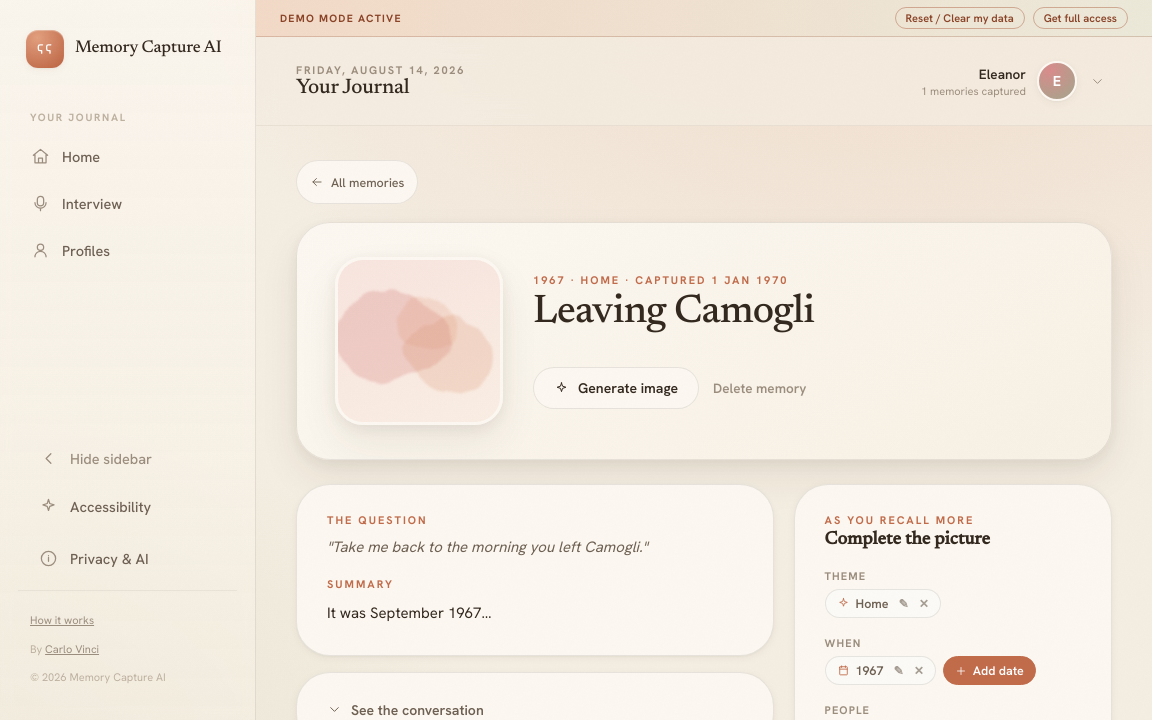
Scenario: memory detail view (#5) › shows the question, the verbatim answer, and noticed entities
This screenshot has width=1152, height=720.
Expected: the heading "Leaving Camogli" is shown, [533, 293, 814, 333]
Expected: the text "\"Take me back to the morning you left Camogli.\"" is shown, [327, 537, 648, 557]
# Full answer is in the collapsible conversation section — expand it first
Click the button "See the conversation".
click(417, 710)  # box [327, 700, 743, 718]
(page scrolled)
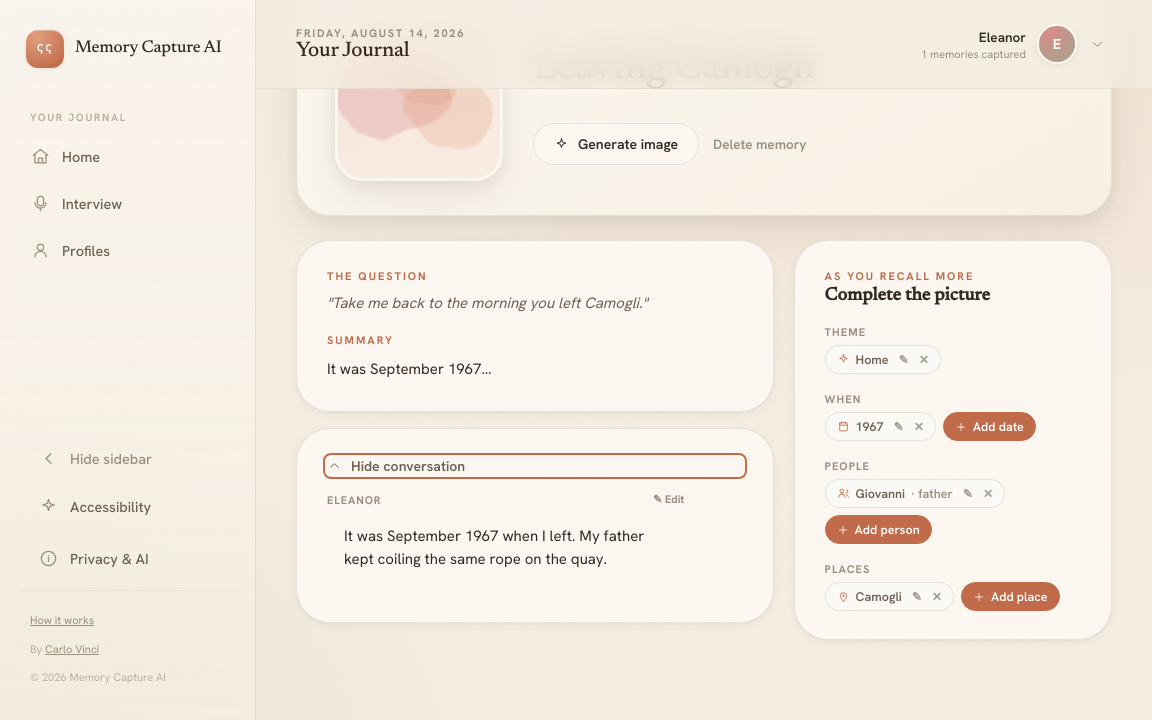
Expected: the text "coiling the same rope" is shown, [344, 526, 644, 569]
Expected: the text "Giovanni" is shown, [856, 485, 905, 502]
Expected: the text "Camogli" is shown, [856, 588, 902, 605]
